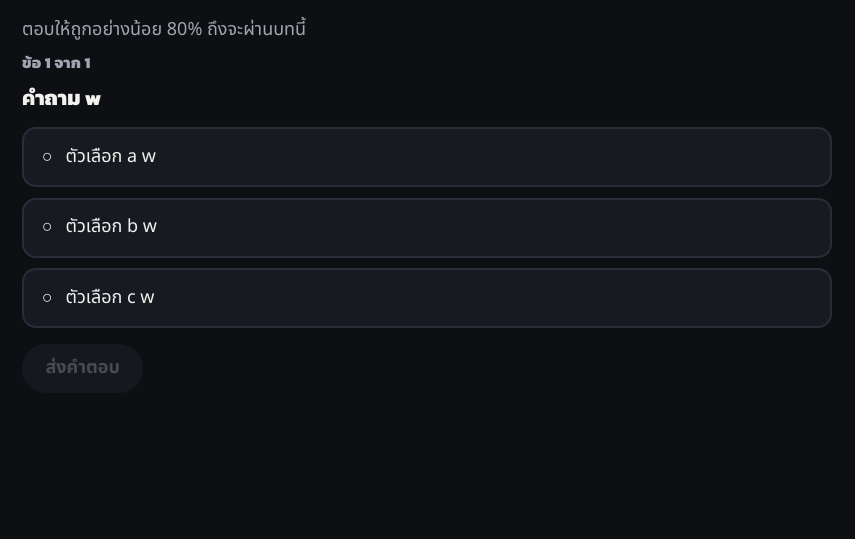
Test case: QuizView motion feedback › ตอบผิด: ตัวเลือกที่เลือกได้ .shake + ✗ ส่วนข้อที่ถูกได้ ✓ แต่ไม่ฉลอง
The width and height of the screenshot is (855, 539).
Click the button "○ ตัวเลือก b w": (111, 227) x1=22 y1=198 x2=832 y2=258
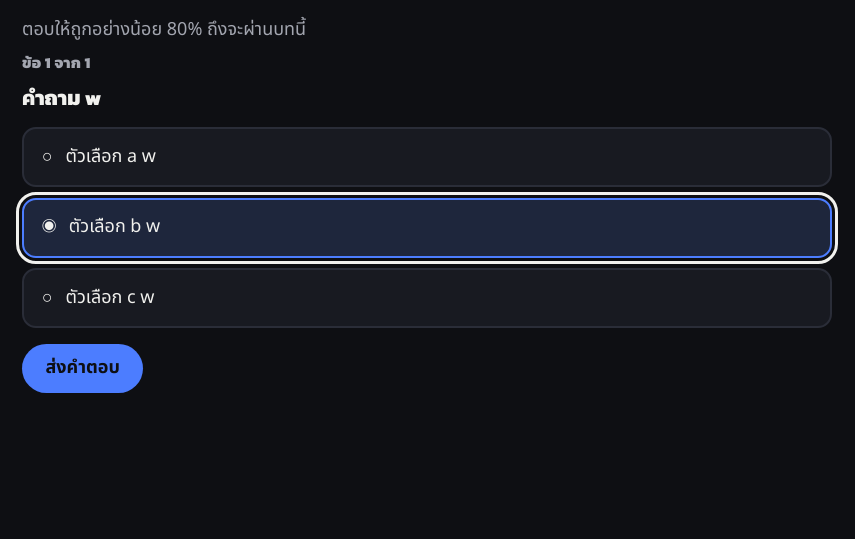
Click the button "ส่งคำตอบ": (83, 369) x1=22 y1=344 x2=143 y2=393
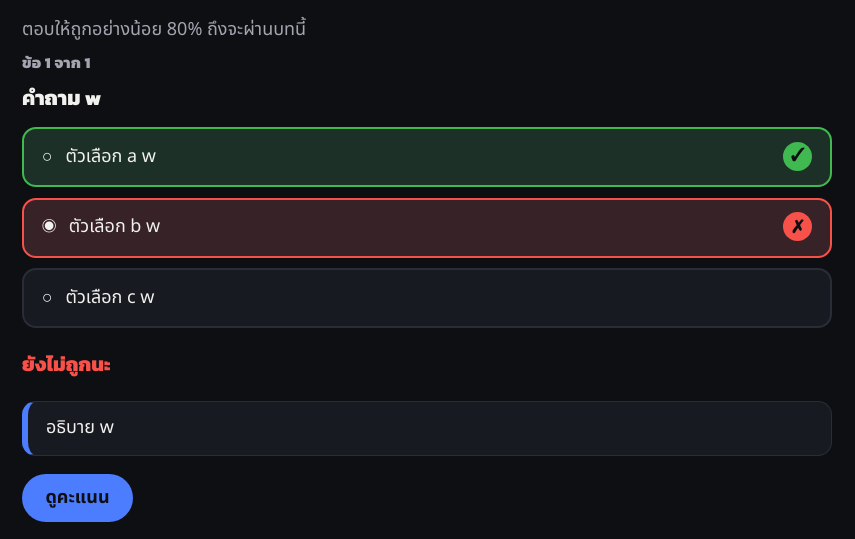
Expected: the button "◉ ตัวเลือก b w ✗" is shown, x1=22 y1=198 x2=832 y2=258
Expected: the button "○ ตัวเลือก a w ✓" is shown, x1=22 y1=127 x2=832 y2=187
